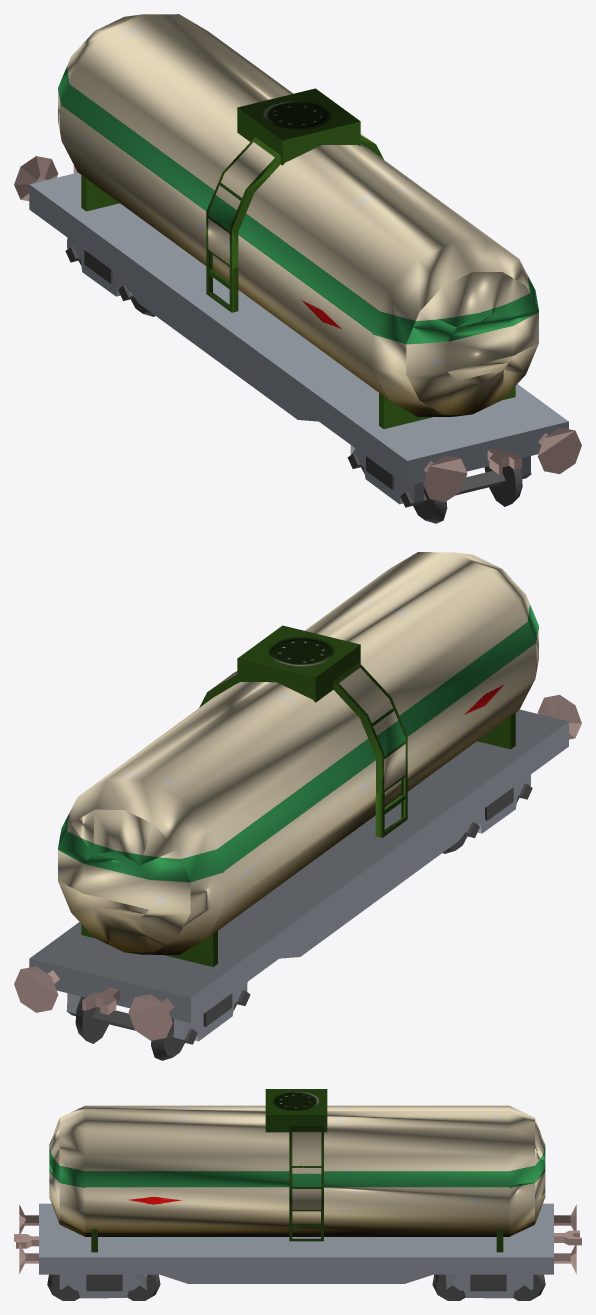
File: tankcar.dae
3 renders of one model, top to bottom at view 1: azimuth 30°, elevation 25°; view 2: azimuth 150°, elevation 25°; view 3: azimuth 270°, elevation 25°, orthographic. The views are drawn at different scales.
Visible parts, largest first — view 1: 9.0.242.0_Pts_Material__4__Surf, 9.0.242.0_Pts_Material_Surf, 9.0.242.0_Pts_Material__3__Surf, 9.0.242.0_Pts_Material__2__Surf; view 2: 9.0.242.0_Pts_Material__4__Surf, 9.0.242.0_Pts_Material_Surf, 9.0.242.0_Pts_Material__3__Surf, 9.0.242.0_Pts_Material__2__Surf; view 3: 9.0.242.0_Pts_Material__4__Surf, 9.0.242.0_Pts_Material_Surf, 9.0.242.0_Pts_Material__2__Surf, 9.0.242.0_Pts_Material__3__Surf.
Boxes of the visible parts, x1,y1,x2,y2 form: 9.0.242.0_Pts_Material__4__Surf: (58,14,538,428); 9.0.242.0_Pts_Material_Surf: (29,172,568,504); 9.0.242.0_Pts_Material__3__Surf: (14,156,581,501); 9.0.242.0_Pts_Material__2__Surf: (65,246,531,523); 9.0.242.0_Pts_Material__4__Surf: (58,552,538,966); 9.0.242.0_Pts_Material_Surf: (29,709,568,1041); 9.0.242.0_Pts_Material__3__Surf: (14,694,581,1040); 9.0.242.0_Pts_Material__2__Surf: (66,783,532,1060); 9.0.242.0_Pts_Material__4__Surf: (49,1089,545,1252); 9.0.242.0_Pts_Material_Surf: (39,1203,553,1298); 9.0.242.0_Pts_Material__2__Surf: (47,1274,545,1300); 9.0.242.0_Pts_Material__3__Surf: (14,1204,581,1273).
Bounding box in the file's own units: 34.89 × 52.17 × 143.
4 materials, 1 textured.
